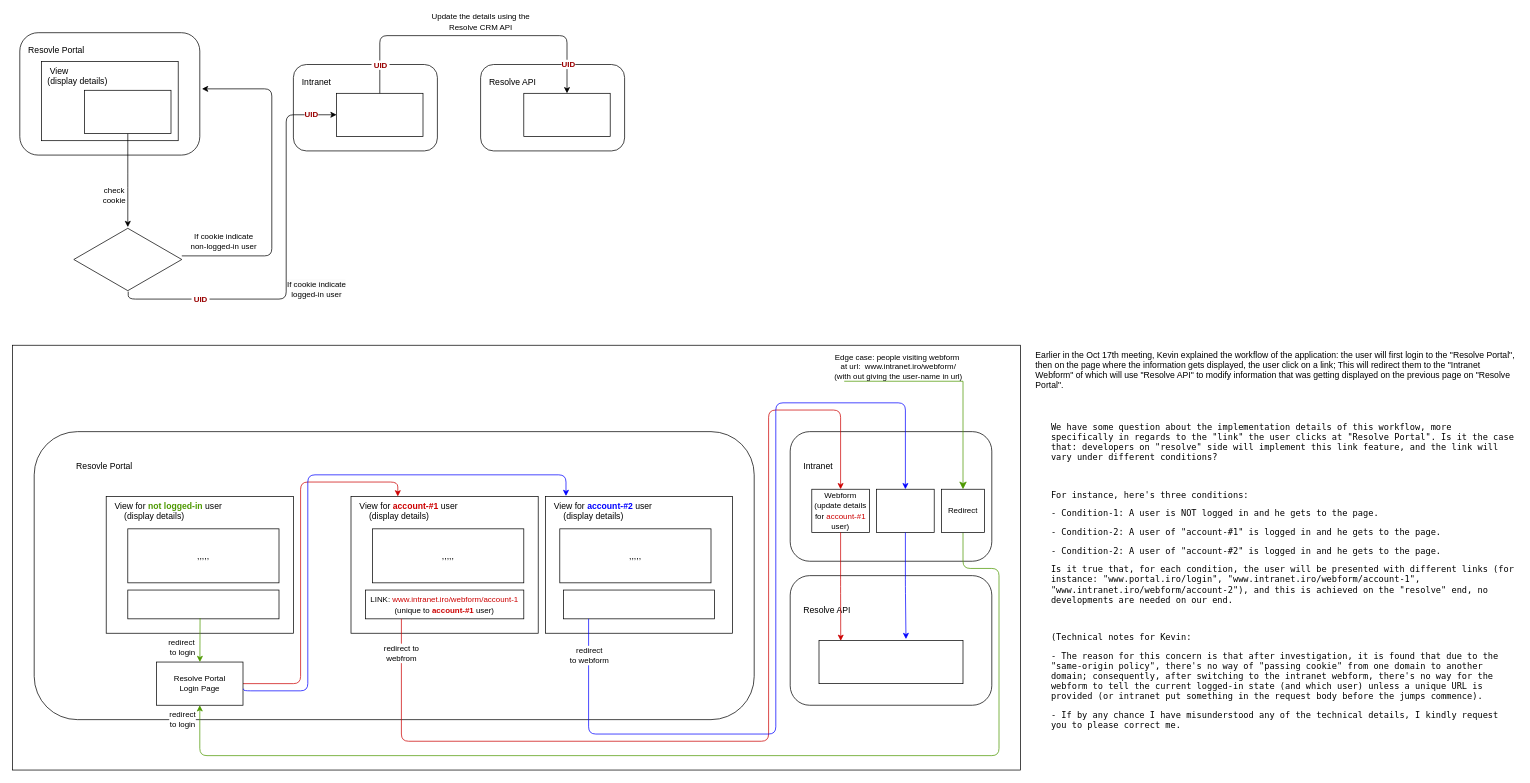
Some shapes in this 1530 by 783 pixel diagram are drawn without their labels. Here are the shapes that lost their labels. From the top down, the centre of each, then its label:
At [127,111]: "Link (update details)".
At [379,115]: "Webform (update details)".
At [566,115]: "API (update details)".
At [127,259]: "type of current user".
At [905,510]: "Webform (update details for account-#2 user)".
At [203,604]: "LINK: www.portal.iro/login (unique to not logged-in user)".
At [639,604]: "LINK: www.intranet.iro/webform/account-2 (unique to account-#2 user)".
At [890,662]: "Update detials API".
